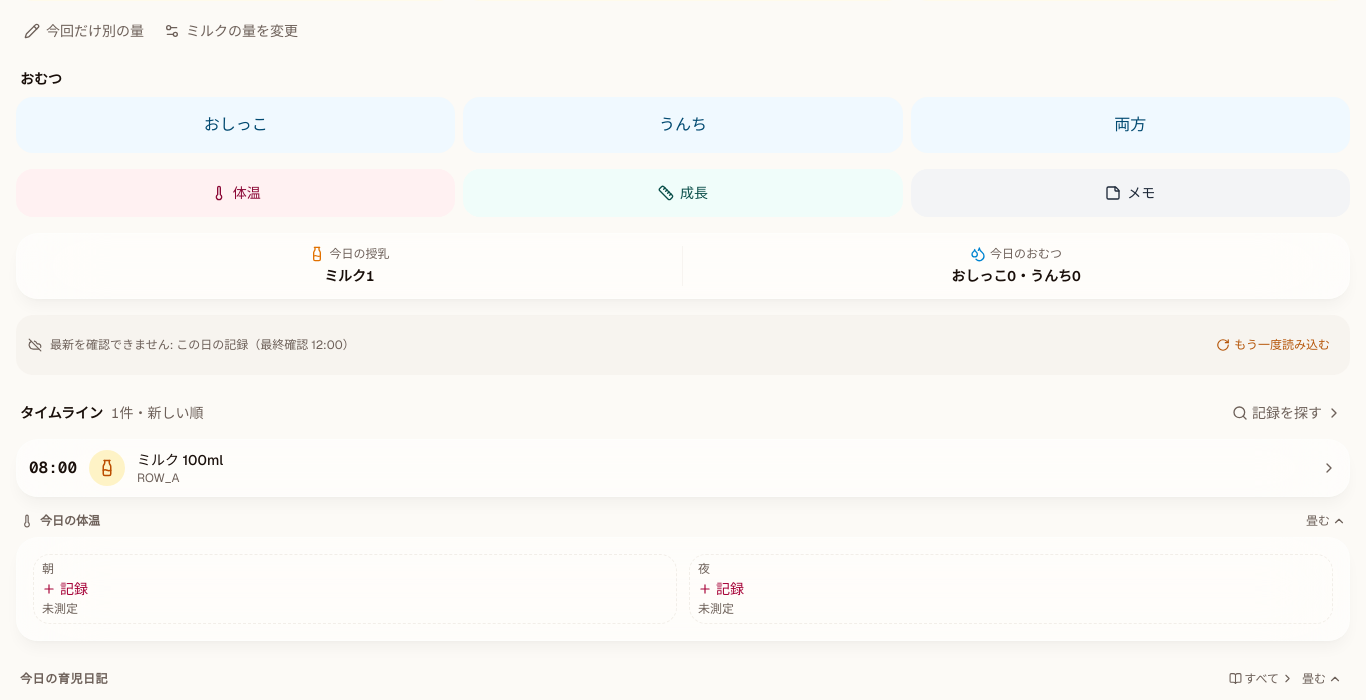
Test: BabyDashboard / 最新を確認できぬ範囲（C1 鮮度・AC15） › 日次の取り直しだけが失敗したら、記録を消さず「この日の記録」の最終確認と再試行を出す（週は最新扱いのまま）
(page scrolled)
Expected: the text "最新を確認できません: この日の記録（最終確認 12:00）" is shown, [50,336,355,352]
Expected: the text "最新を確認できません" does not show "週間"
Note: 再試行で取り直し、成功すれば消える
Click the button with aria-label "最新をもう一度読み込む" at (1273, 344), box [1208,322,1338,366]
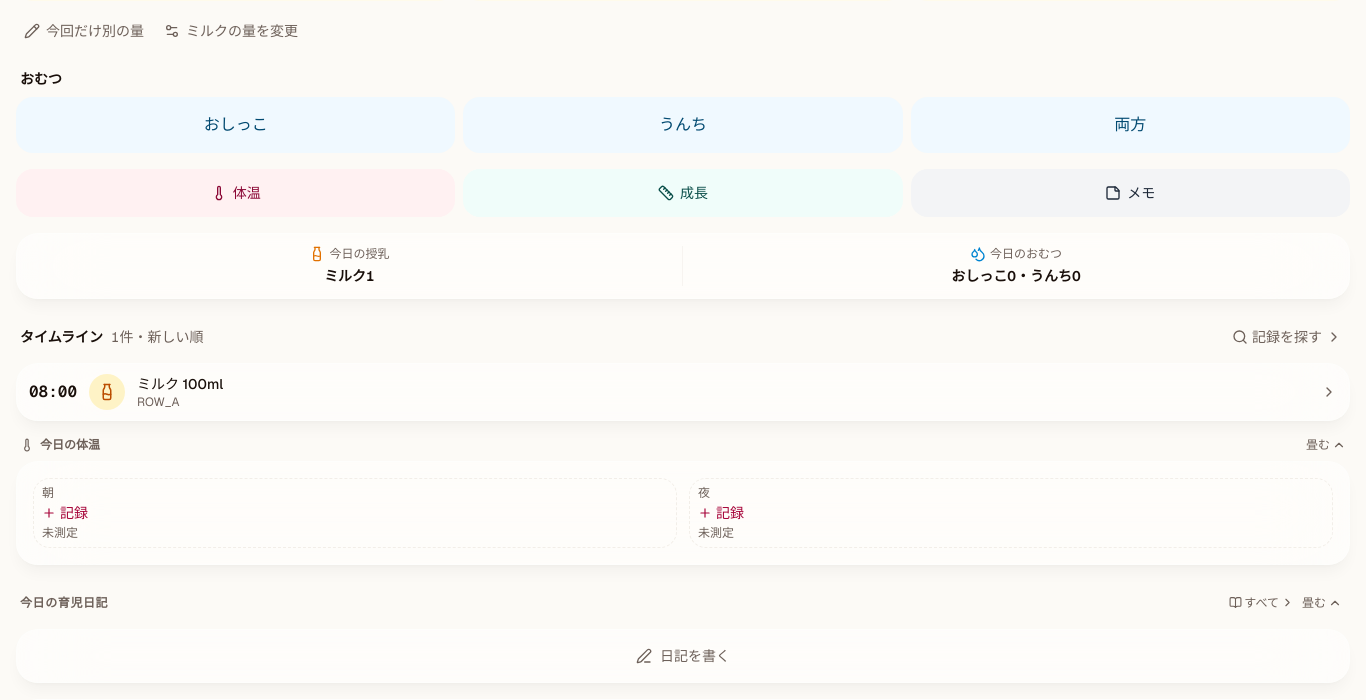
Result: the text "最新を確認できません" is gone
